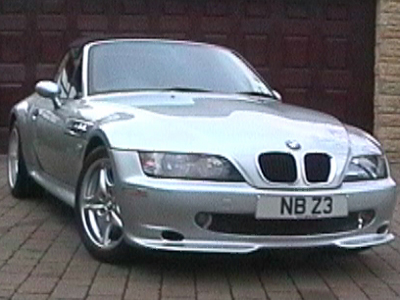licencePlate: (257, 193, 352, 219)
